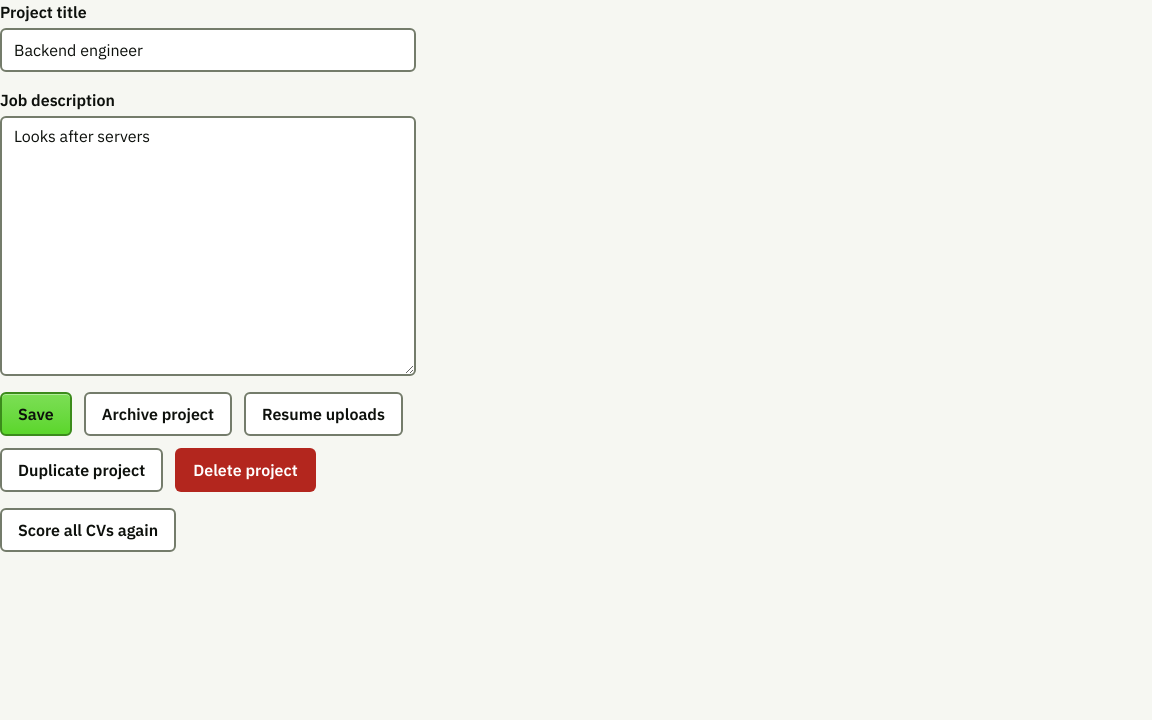
Test: project settings › Resume uploads sends paused false
Click the button "Resume uploads". click: (323,414)
box: [244,392,403,436]
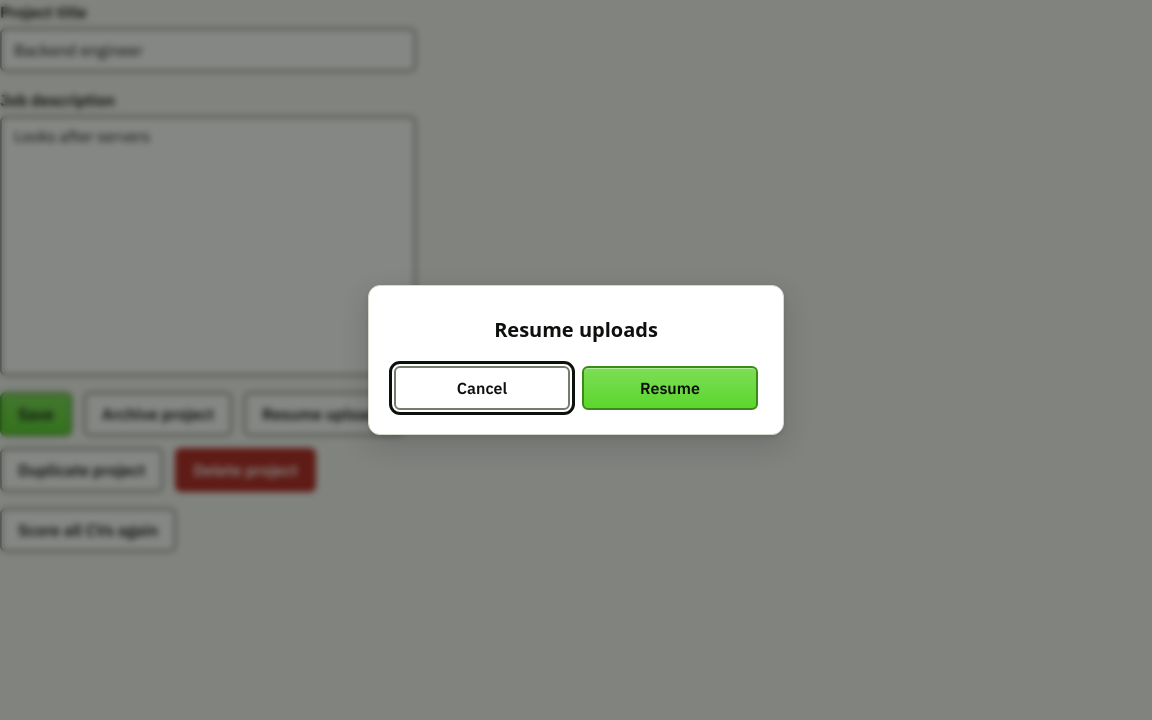
Click the button "Resume". click: (670,388)
box: [582,366,758,410]
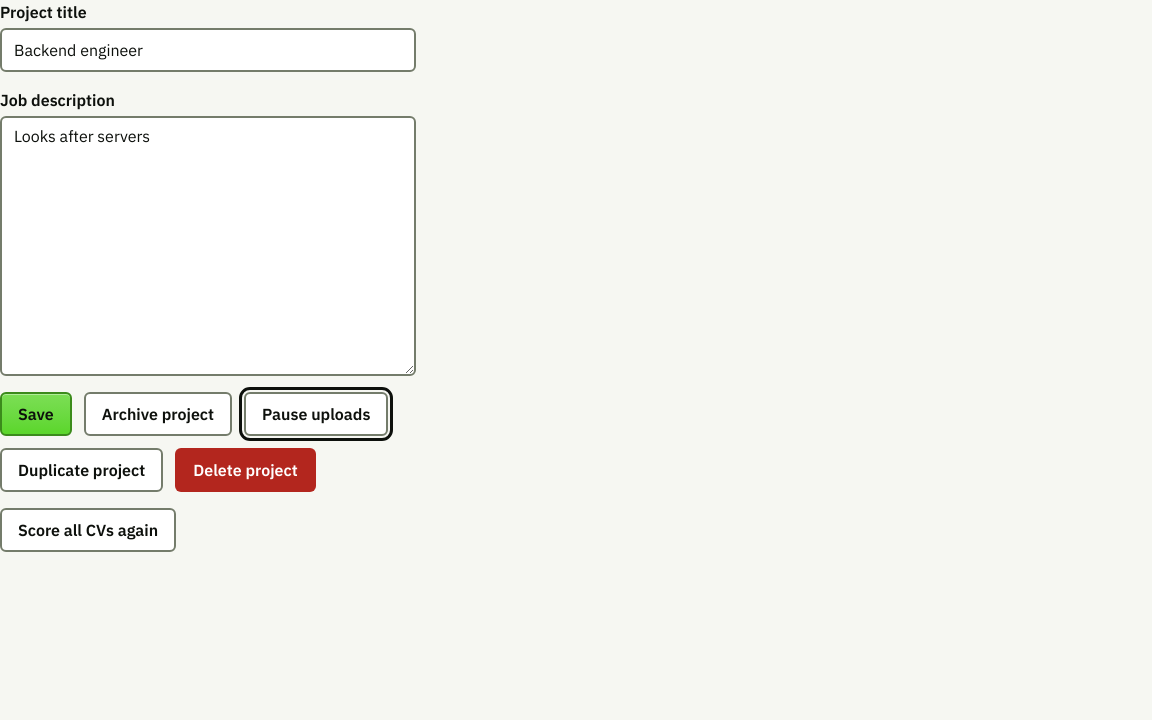
Result: the button "Pause uploads" is shown at [244,392,388,436]
